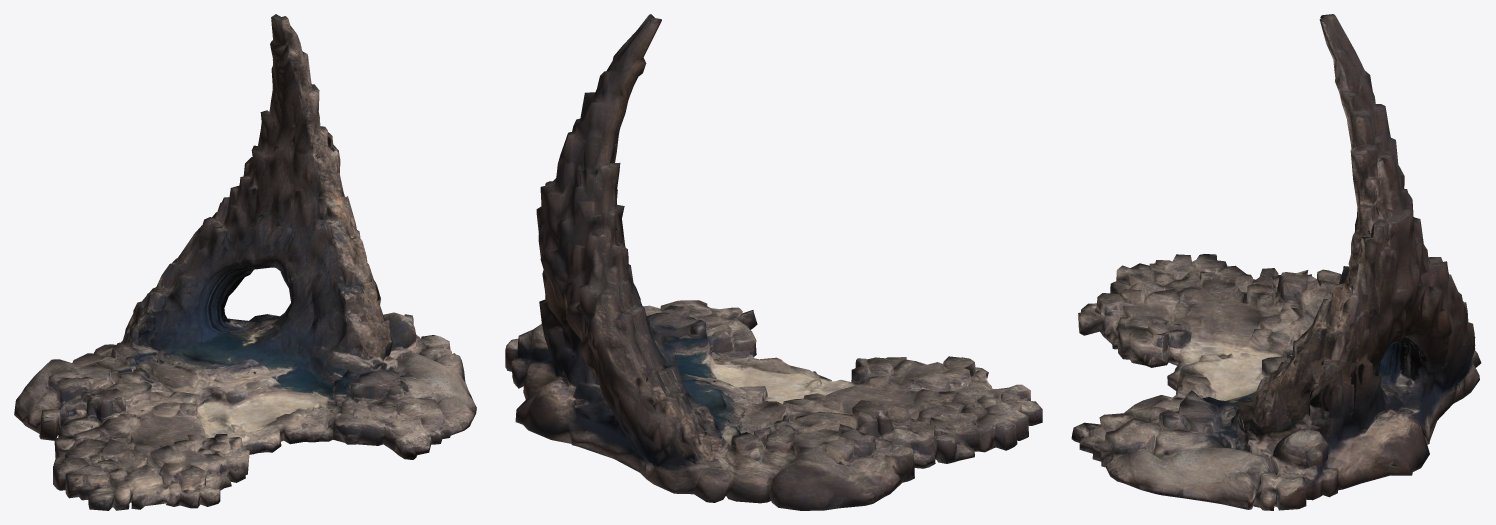
File: horn_arch.glb
3 views of the same model, side by side, from view 1: azimuth 30°, elevation 25°; view 2: azimuth 150°, elevation 25°; view 3: azimuth 270°, elevation 25° (orthographic). The views are drawn at different scales.
Parts seen in each view (by area): view 1: horn_arch; view 2: horn_arch; view 3: horn_arch.
Part boxes in pixels (x1=…): horn_arch: x1=14, y1=14, x2=476, y2=510; horn_arch: x1=505, y1=14, x2=1042, y2=510; horn_arch: x1=1071, y1=14, x2=1481, y2=510.
Bounding box in the file's own units: 1.97 × 1.61 × 1.45.
Materials: 1 (1 with a texture image).
